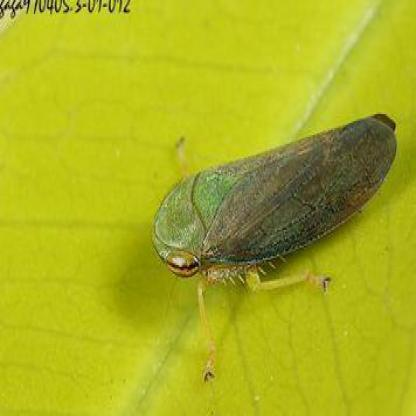green-leafhopper: (150, 113, 395, 286)
